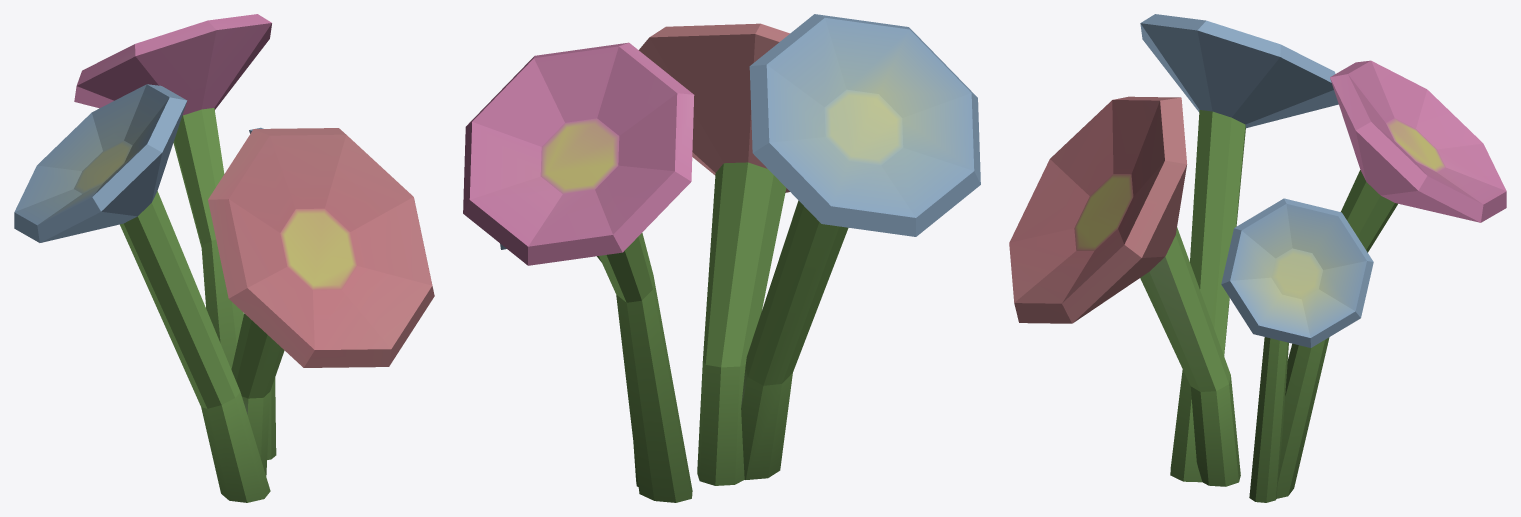
The model's file is flowers.fbx.
3 views of the same model, side by side, from view 1: azimuth 30°, elevation 25°; view 2: azimuth 150°, elevation 25°; view 3: azimuth 270°, elevation 25° (orthographic). The views are drawn at different scales.
Parts seen in each view (by area): view 1: flowers; view 2: flowers; view 3: flowers.
Part boxes in pixels (left/top/right/bottom): flowers: left=14, top=14, right=434, bottom=502; flowers: left=463, top=14, right=980, bottom=502; flowers: left=1009, top=14, right=1506, bottom=502.
Size of the model in its own units: 0.7853 by 0.858 by 0.9289.
